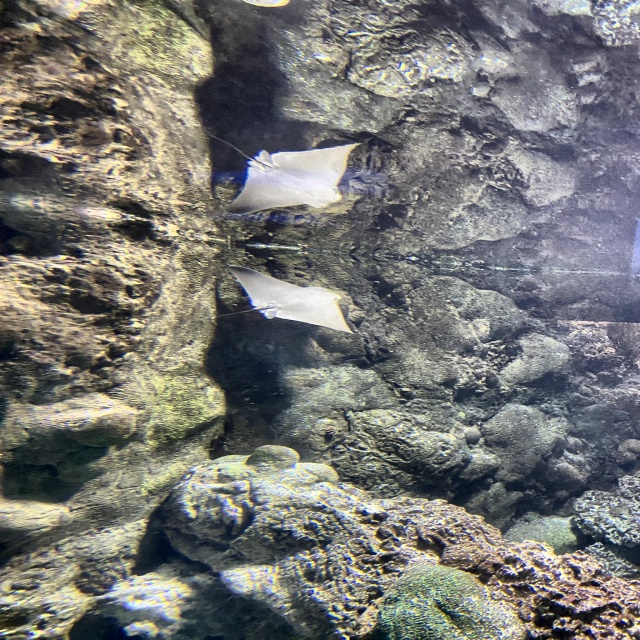stingray: (229, 262, 358, 337), (235, 143, 357, 215)
